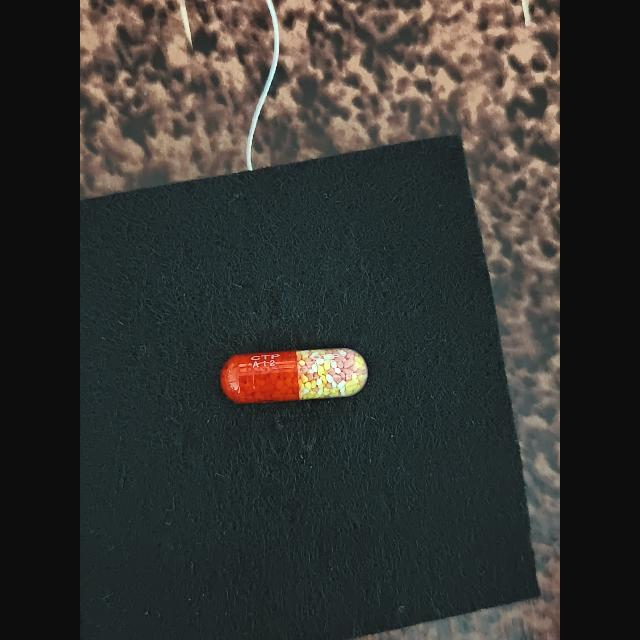Intact Capsule: (220, 348, 368, 403)
